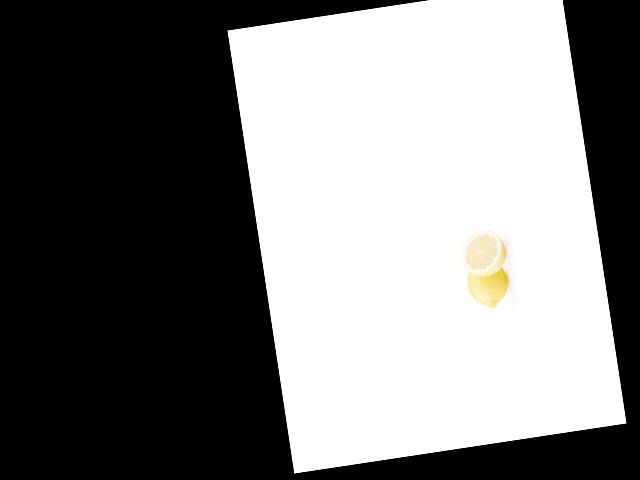lemon: (462, 258, 516, 313)
